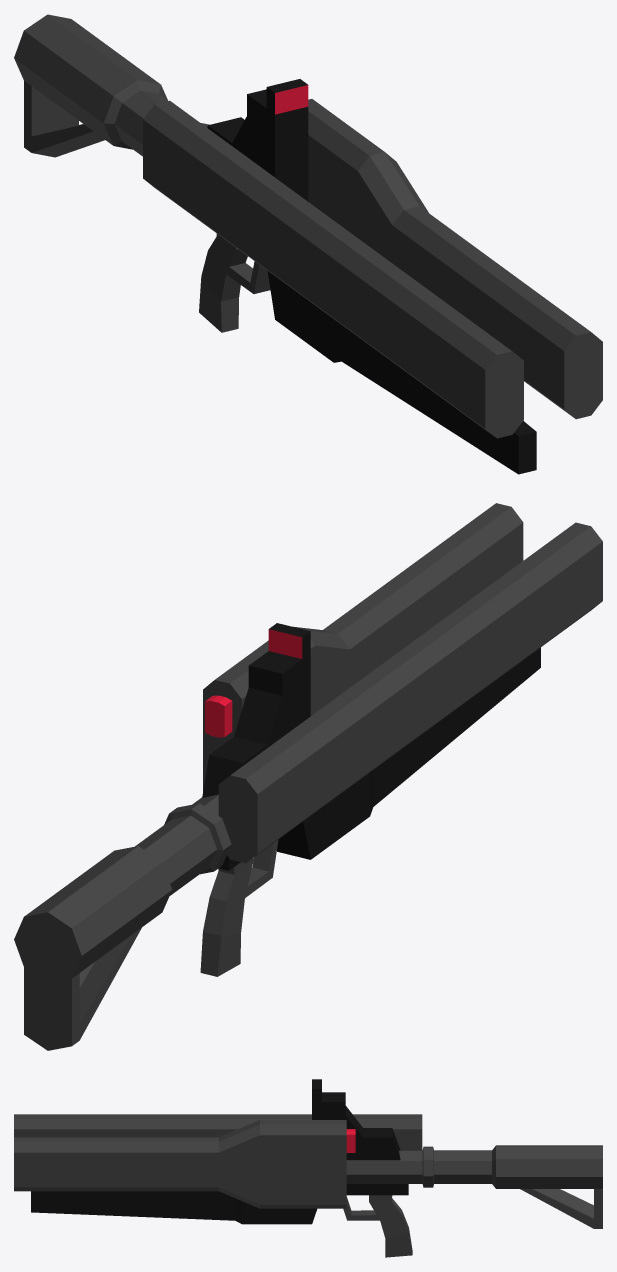
The model's file is DroneCannon.fbx.
The picture shows the model from 3 angles, top to bottom: view 1: azimuth 30°, elevation 25°; view 2: azimuth 150°, elevation 25°; view 3: azimuth 270°, elevation 25°; orthographic projection. The views are drawn at different scales.
Parts seen in each view (by area): view 1: DroneCannon; view 2: DroneCannon; view 3: DroneCannon.
Boxes of the visible parts, bbox=[...] form: DroneCannon: bbox=[14, 14, 602, 474]; DroneCannon: bbox=[14, 503, 602, 1050]; DroneCannon: bbox=[14, 1079, 602, 1257].
Bounding box in the file's own units: 0.5239 × 1.22 × 3.81.
